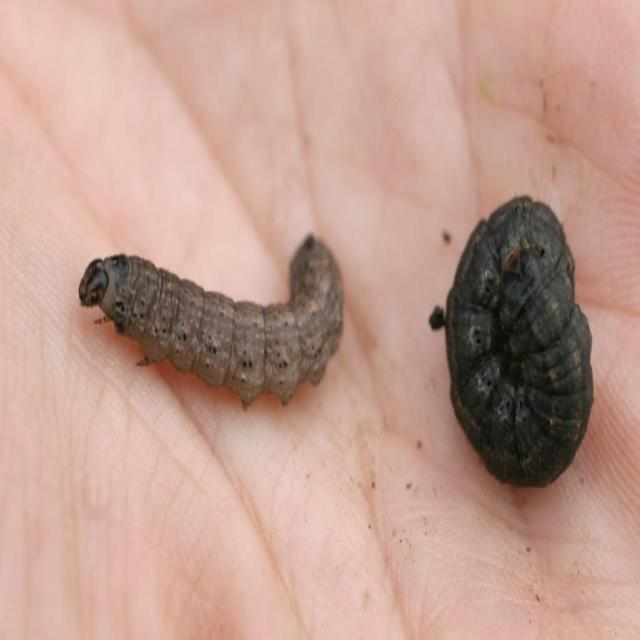black cutworm: (439, 194, 609, 490), (77, 232, 353, 413)
